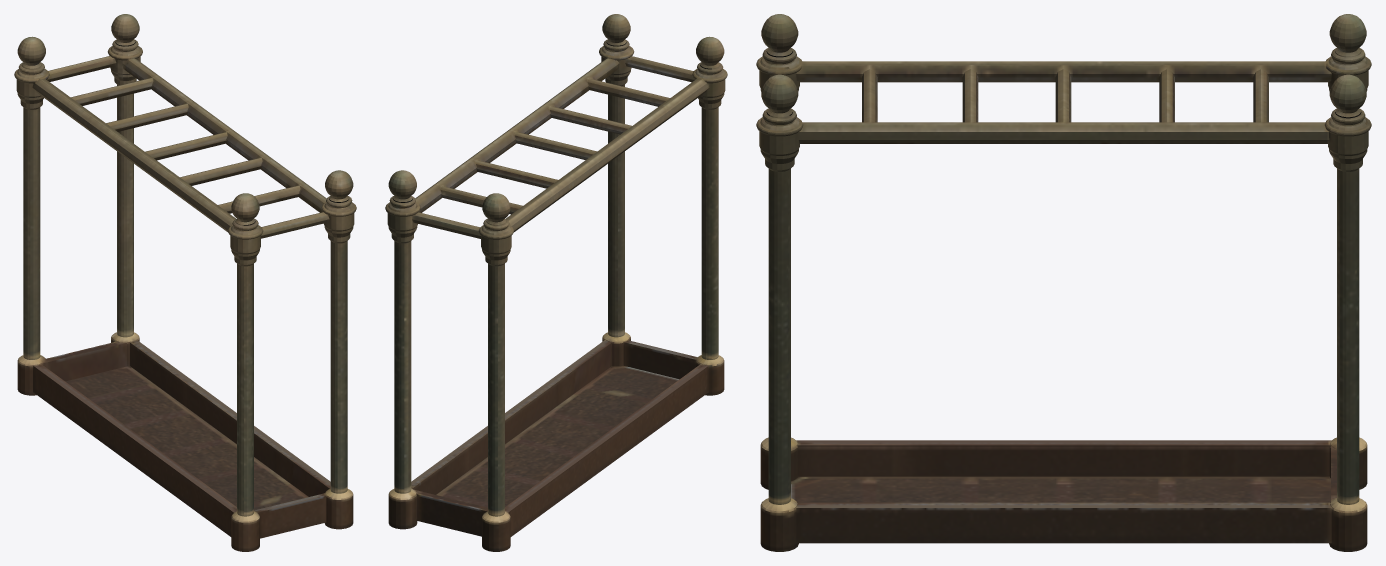
File: UmbrellaStand.fbx
3 renders of one model, left to right at view 1: azimuth 30°, elevation 25°; view 2: azimuth 150°, elevation 25°; view 3: azimuth 270°, elevation 25°, orthographic. The views are drawn at different scales.
Parts seen in each view (by area): view 1: UmbrellaStand_Low; view 2: UmbrellaStand_Low; view 3: UmbrellaStand_Low.
Part boxes in pixels (x1,y1,x2,y2): UmbrellaStand_Low: [14, 14, 356, 551]; UmbrellaStand_Low: [385, 14, 727, 551]; UmbrellaStand_Low: [756, 14, 1371, 551].
Size of the model in its own units: 0.2425 by 0.658 by 0.7854.
